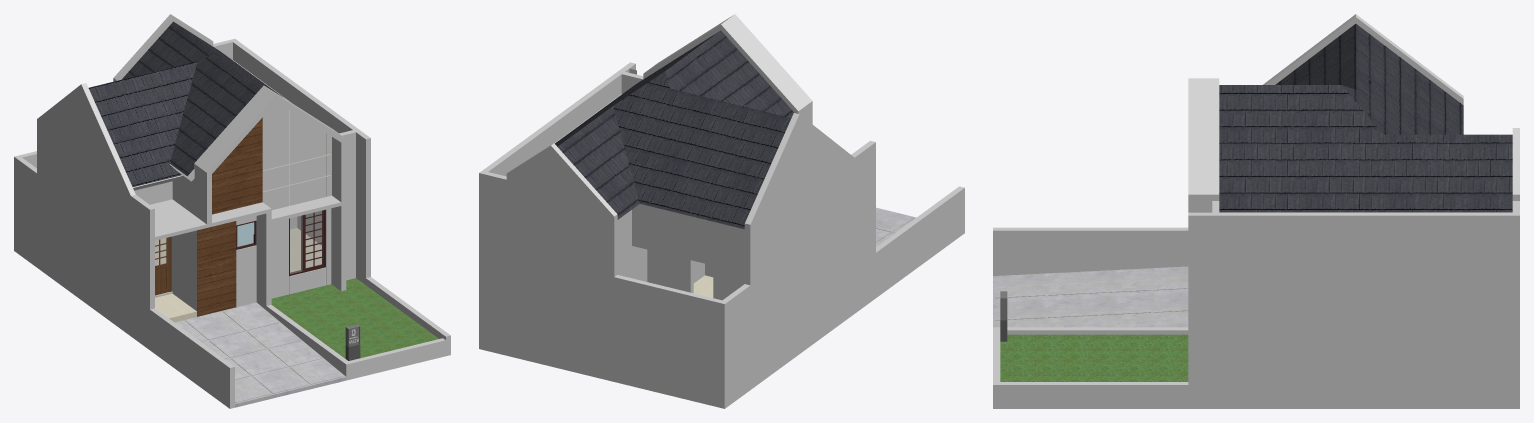
Rendered from mizu-36.glb.
3 renders of one model, left to right at view 1: azimuth 30°, elevation 25°; view 2: azimuth 150°, elevation 25°; view 3: azimuth 270°, elevation 25°, orthographic. The views are drawn at different scales.
Visible parts, largest first — view 1: $ColladaAutoName$_0, ID101, ID156, ID259, ID525, ID28, ID300, ID92; view 2: $ColladaAutoName$_0, ID101, ID156; view 3: $ColladaAutoName$_0, ID101, ID156, ID525.
Boxes of the visible parts, x1,y1,x2,y2 form: $ColladaAutoName$_0: (14, 14, 450, 408); ID101: (88, 21, 283, 186); ID156: (174, 302, 346, 407); ID259: (197, 110, 331, 316); ID525: (271, 278, 438, 358); ID28: (155, 209, 325, 295); ID300: (155, 228, 321, 322); ID92: (155, 210, 322, 274); $ColladaAutoName$_0: (479, 14, 964, 408); ID101: (555, 30, 794, 229); ID156: (876, 207, 916, 246); $ColladaAutoName$_0: (993, 14, 1519, 408); ID101: (1219, 24, 1512, 212); ID156: (993, 266, 1188, 327); ID525: (1000, 334, 1188, 381).
Bounding box in the file's own units: 6.5 × 6.32 × 11.
14 materials, 8 textured.
